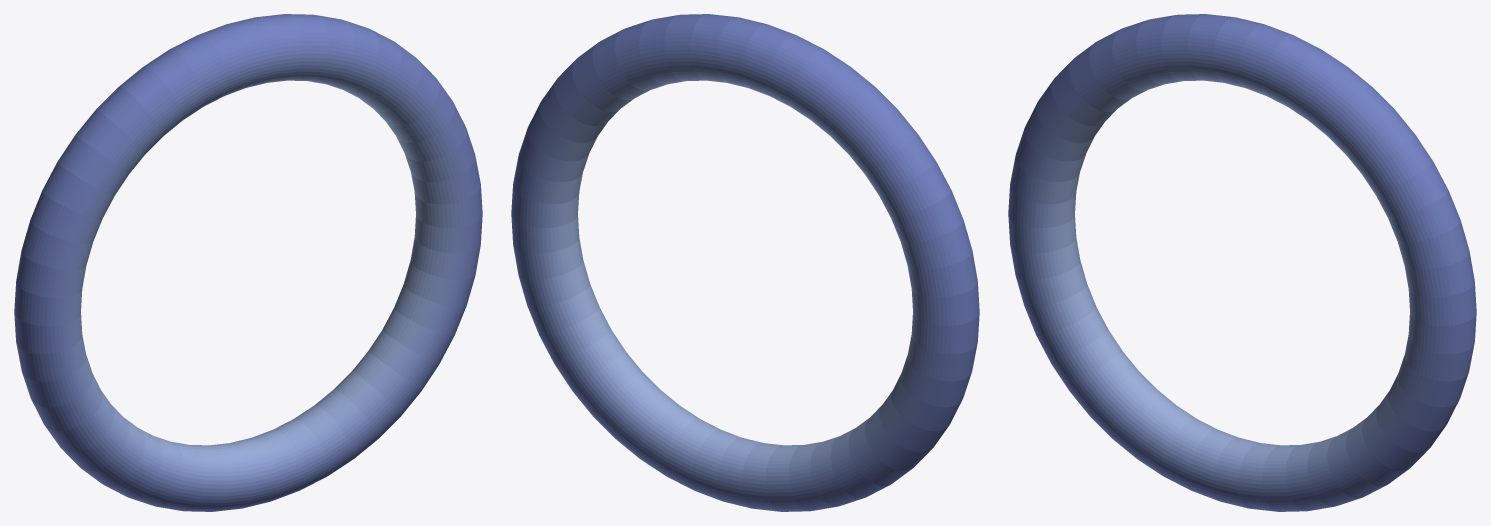
3 views of the same model, side by side, from view 1: azimuth 30°, elevation 25°; view 2: azimuth 150°, elevation 25°; view 3: azimuth 330°, elevation 25° (orthographic).
Parts seen in each view (by area): view 1: world; view 2: world; view 3: world.
Part boxes in pixels (x1,y1,x2,y2): world: [14, 14, 482, 511]; world: [511, 14, 979, 511]; world: [1008, 14, 1476, 511].
Size of the model in its own units: 24.4 by 24.35 by 3.06.
